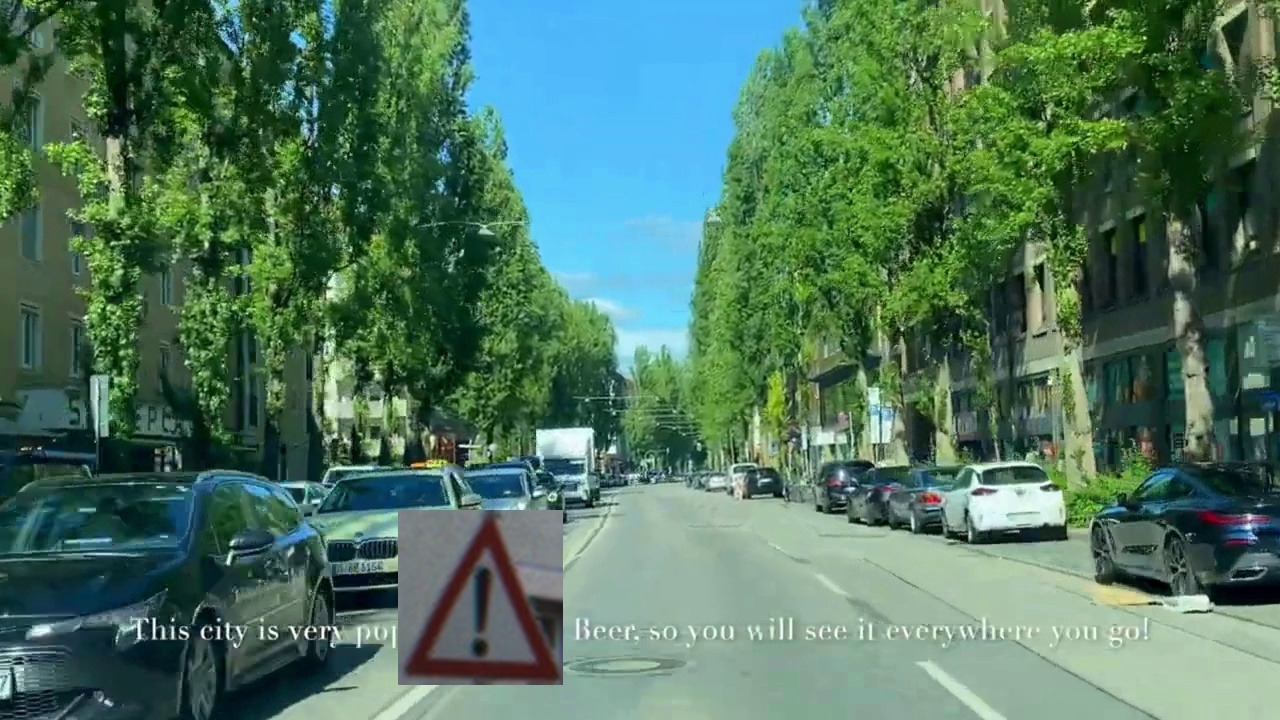Caution: (398, 510, 563, 685)
